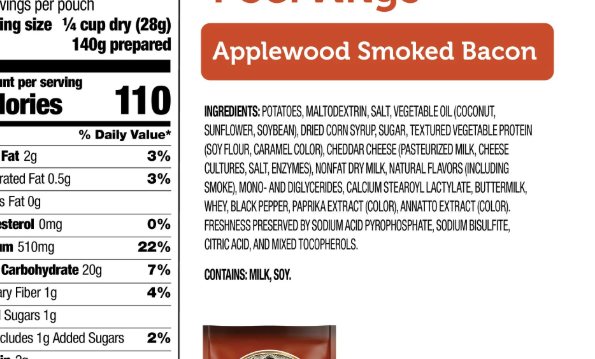l: (200, 102, 540, 261)
